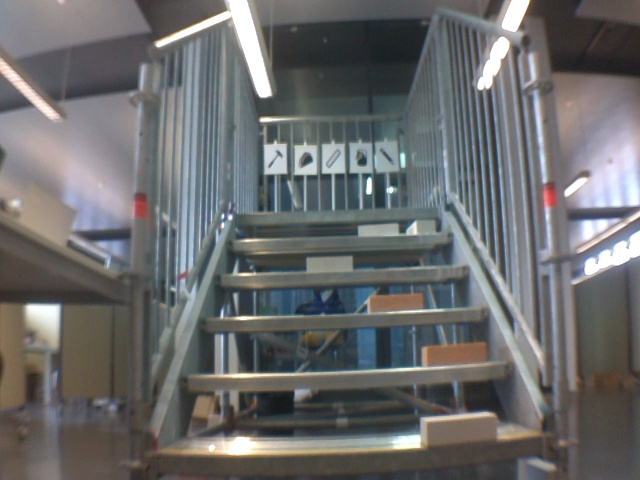brick: (420, 413, 495, 444), (421, 342, 485, 365), (368, 294, 420, 313), (306, 256, 352, 272), (359, 224, 398, 235), (407, 221, 435, 235)
bucket: (354, 147, 371, 169)
edge: (159, 436, 546, 474), (180, 363, 516, 390), (199, 308, 487, 329), (215, 267, 471, 284), (229, 232, 452, 251), (236, 207, 443, 223)
hammer: (265, 148, 285, 170)
pencil: (378, 145, 397, 168)
ruler: (324, 147, 342, 171)
stairs: (115, 15, 570, 479)
steps: (152, 205, 550, 479)
taco: (296, 148, 316, 170)
